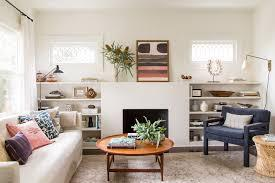chair: (203, 108, 271, 163)
light: (39, 64, 62, 108), (240, 52, 275, 73)
sofa: (0, 107, 84, 183)
table: (100, 132, 170, 181), (252, 134, 275, 178)
